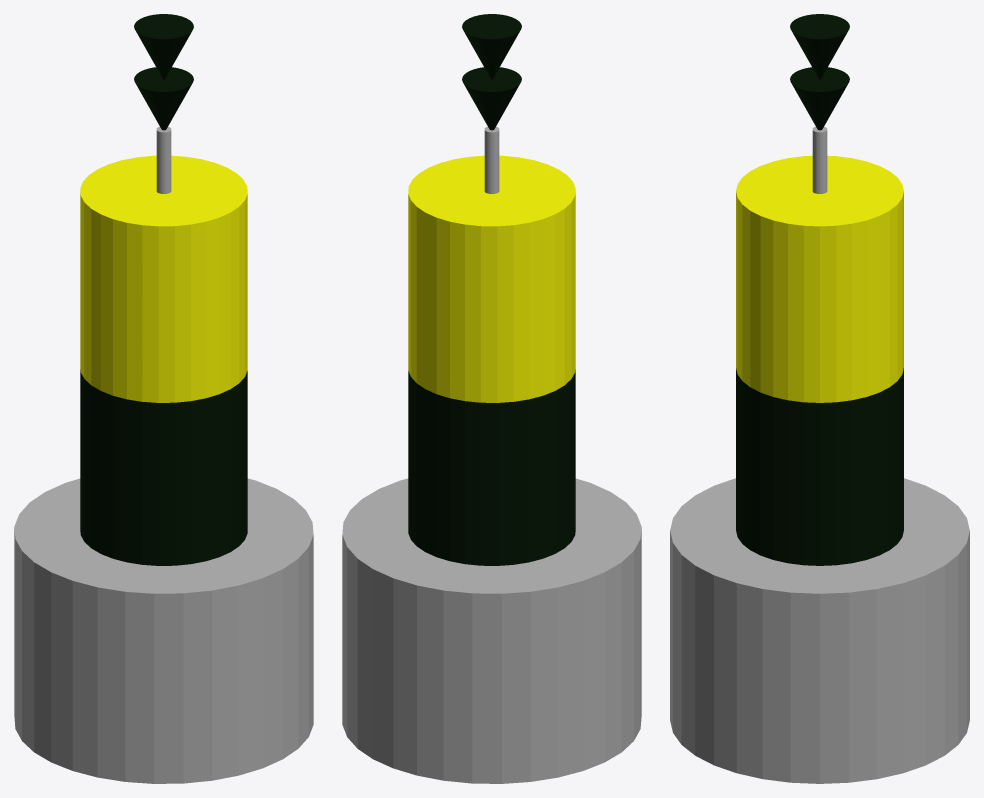
The model's file is Buoy-South.glb.
The picture shows the model from 3 angles, left to right: view 1: azimuth 30°, elevation 25°; view 2: azimuth 150°, elevation 25°; view 3: azimuth 270°, elevation 25°; orthographic projection.
Visible parts, largest first — view 1: Bouée, Cone 1, Cone 2, Axe; view 2: Bouée, Cone 1, Cone 2, Axe; view 3: Bouée, Cone 1, Cone 2, Axe.
Part boxes in pixels (bbox=[...]): Bouée: bbox=[14, 155, 313, 783]; Cone 1: bbox=[134, 14, 193, 79]; Cone 2: bbox=[134, 67, 193, 130]; Axe: bbox=[156, 126, 171, 193]; Bouée: bbox=[342, 155, 641, 783]; Cone 1: bbox=[462, 14, 521, 79]; Cone 2: bbox=[462, 67, 521, 130]; Axe: bbox=[484, 126, 499, 193]; Bouée: bbox=[670, 155, 969, 783]; Cone 1: bbox=[790, 14, 849, 79]; Cone 2: bbox=[790, 67, 849, 130]; Axe: bbox=[812, 126, 827, 193].
Size of the model in its own units: 2 by 5.11 by 2.
